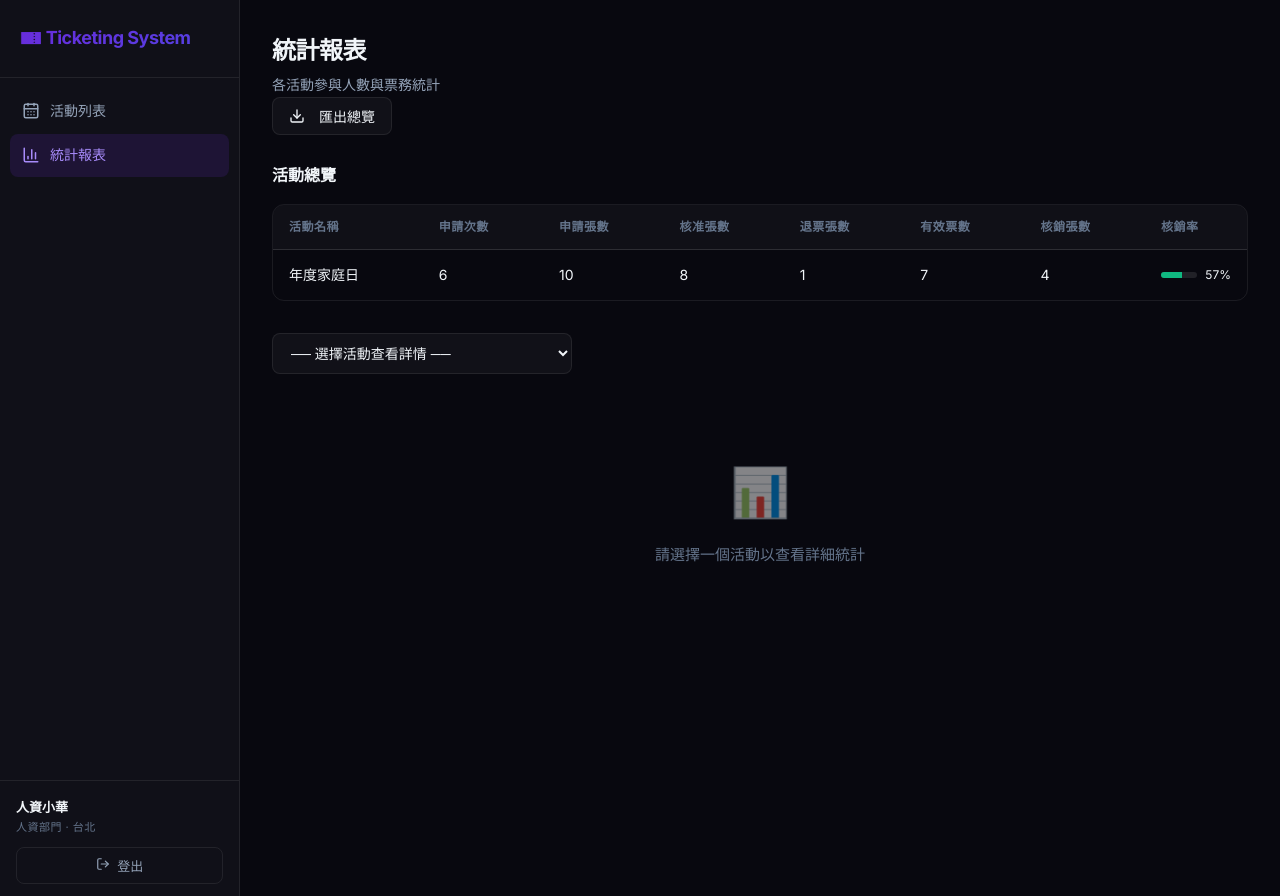
Scenario: HR 報表整合流程 › HR 可查看報表總覽、選擇活動詳情，並透過導覽回活動列表
The image size is (1280, 896).
Expected: the heading "統計報表" is shown, 272,36 -> 366,65
Expected: the link "活動列表" is shown, 22,102 -> 106,120
Select "年度家庭日" in the dropdown at (422, 354), box 272,333 -> 572,374
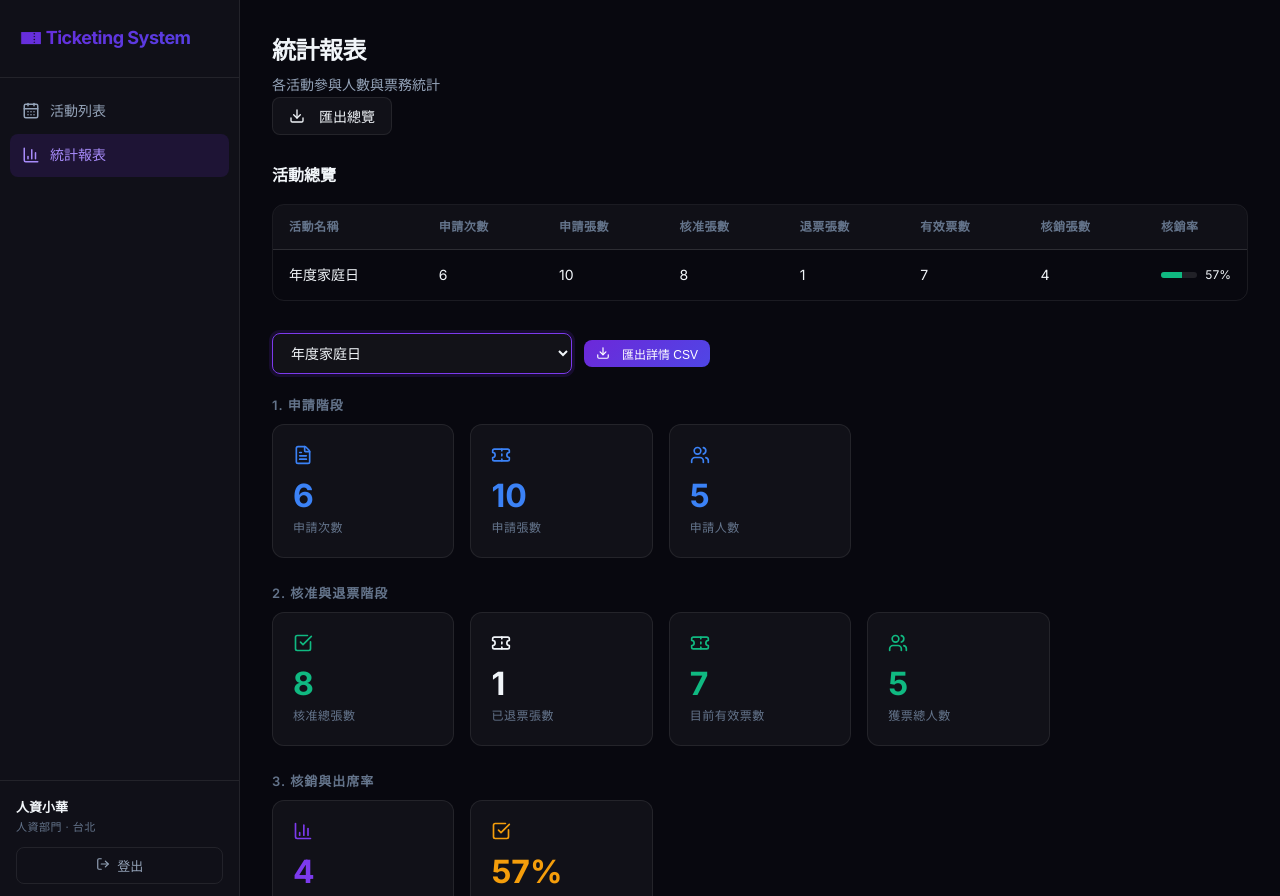
Now the text "1. 申請階段" is shown, box 272,397 -> 344,413
Now the text "2. 核准與退票階段" is shown, box 272,585 -> 388,601
Now the text "3. 核銷與出席率" is shown, box 272,773 -> 374,789
Click the link "活動列表" at (64, 111), box 22,102 -> 106,120
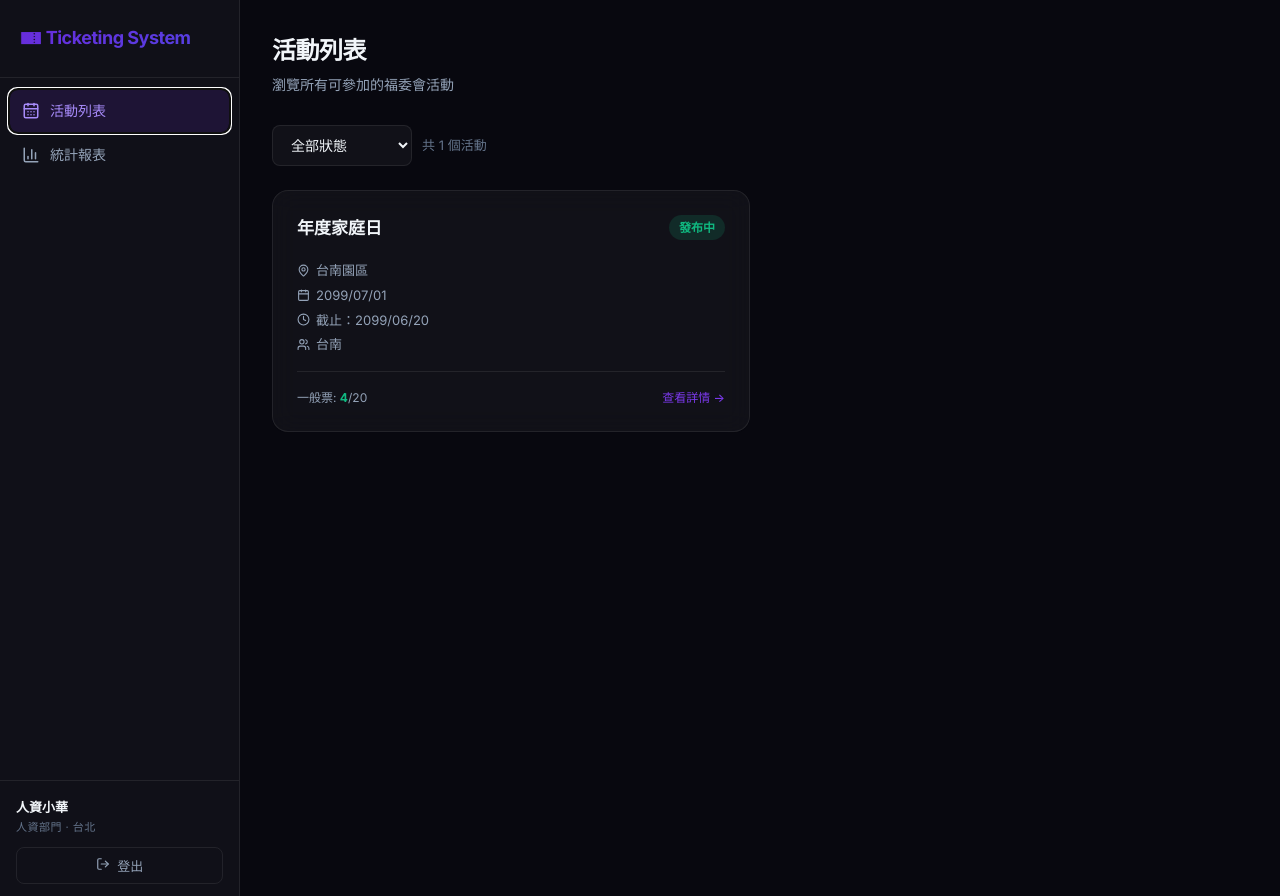
Expected: the text "年度家庭日" is shown, 297,215 -> 382,242
Now the text "瀏覽所有可參加的福委會活動" is shown, box 272,74 -> 454,97
